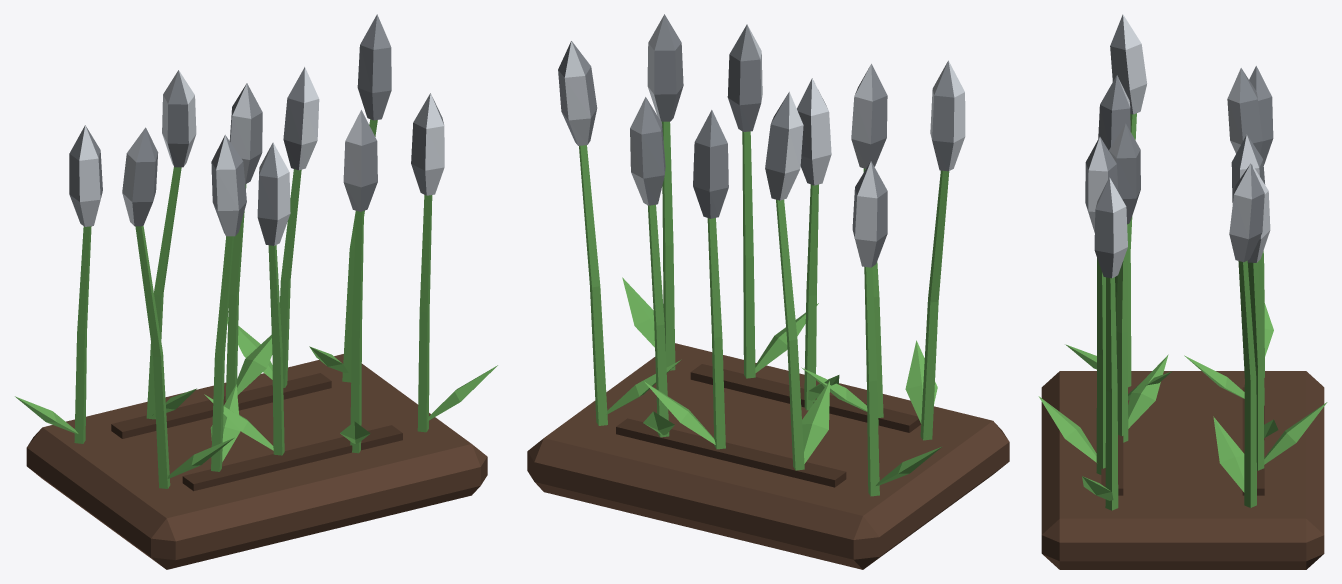
The model's file is CropWheat.obj.
3 renders of one model, left to right at view 1: azimuth 30°, elevation 25°; view 2: azimuth 150°, elevation 25°; view 3: azimuth 270°, elevation 25°, orthographic. The views are drawn at different scales.
Bounding box in the file's own units: 3.53 × 3.55 × 2.25.
